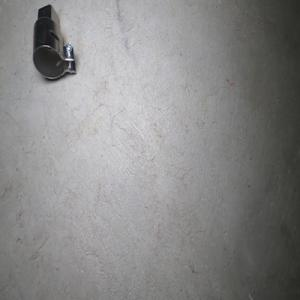MetalPart: (32, 3, 76, 79)
